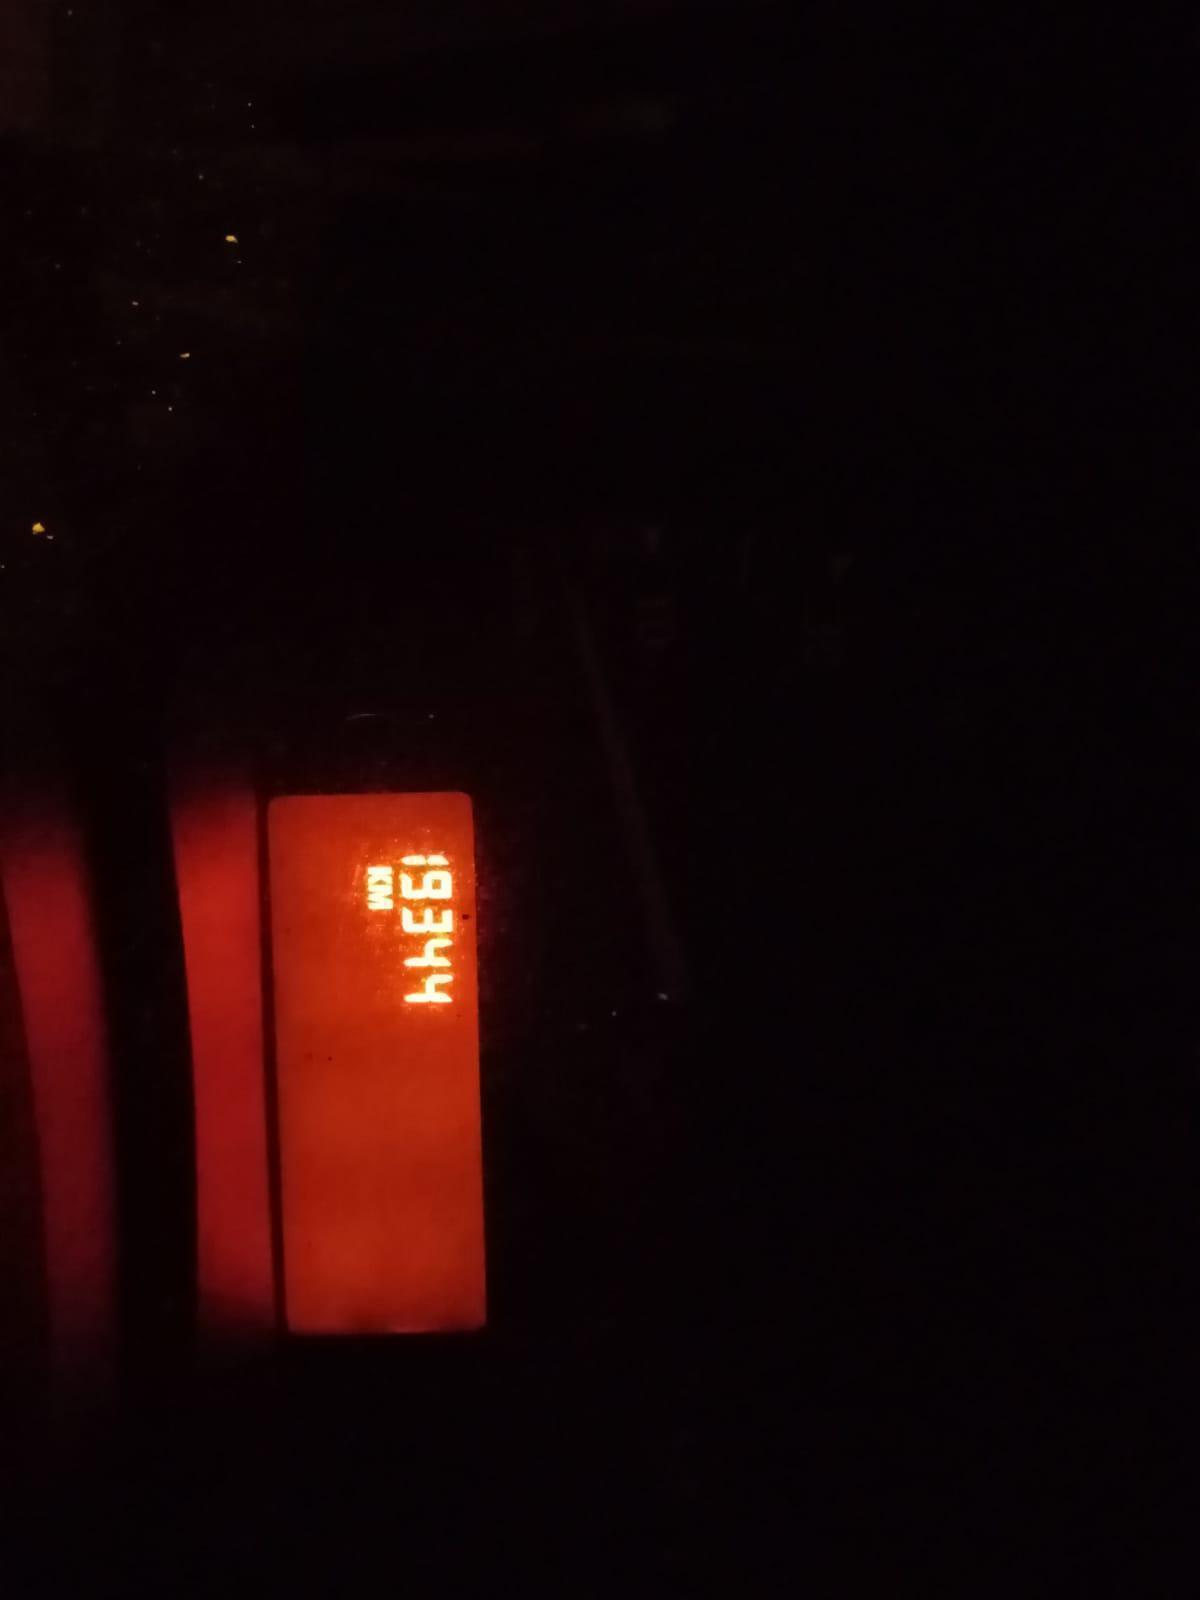1: (400, 850, 454, 869)
3: (398, 905, 454, 936)
4: (402, 971, 456, 1007), (401, 937, 453, 970)
9: (398, 869, 454, 905)
X: (366, 886, 395, 910), (363, 866, 395, 886)
odometer: (261, 787, 492, 1346)
